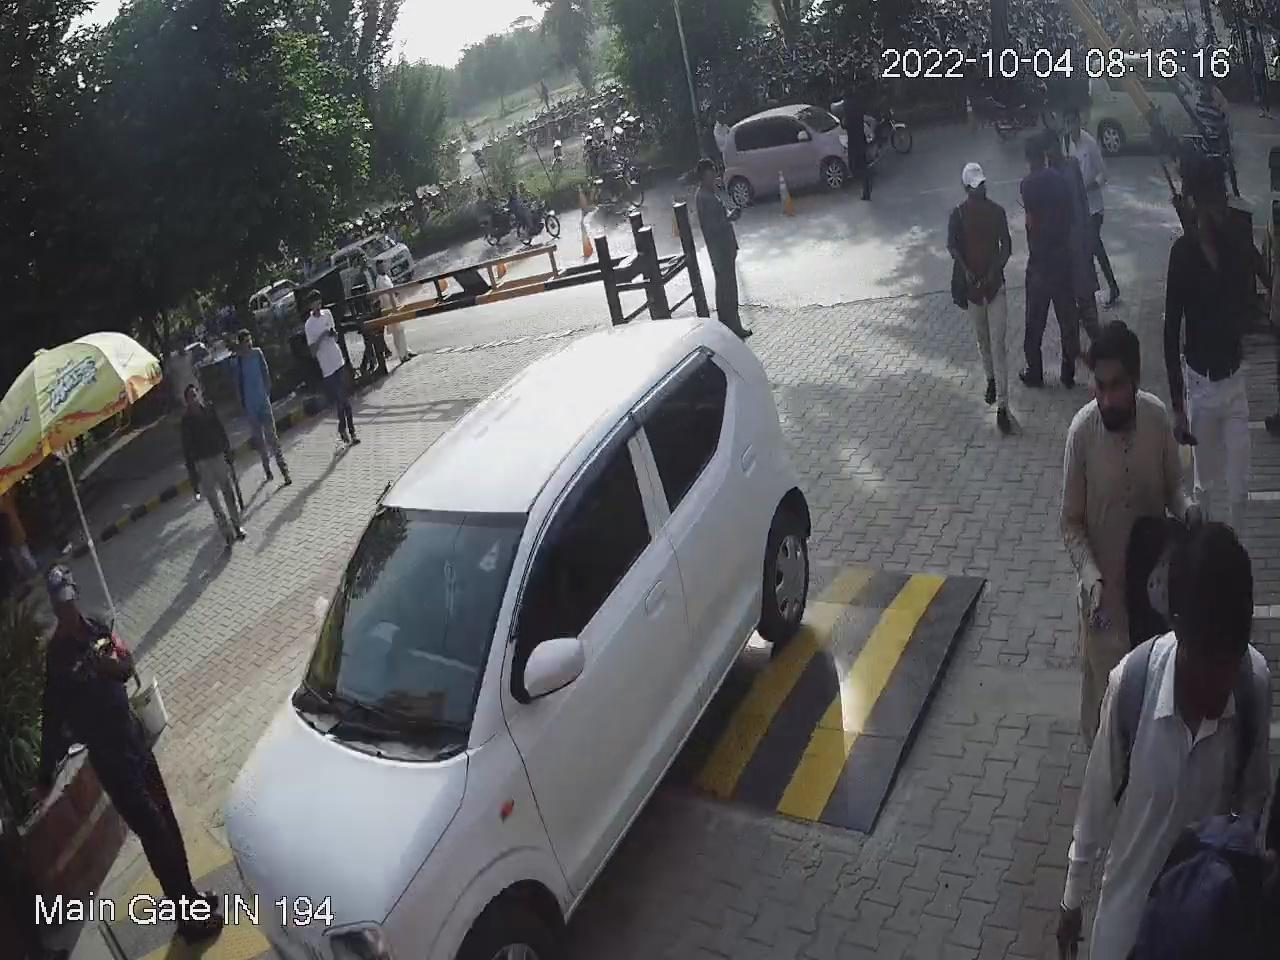windshield: (283, 500, 533, 803)
